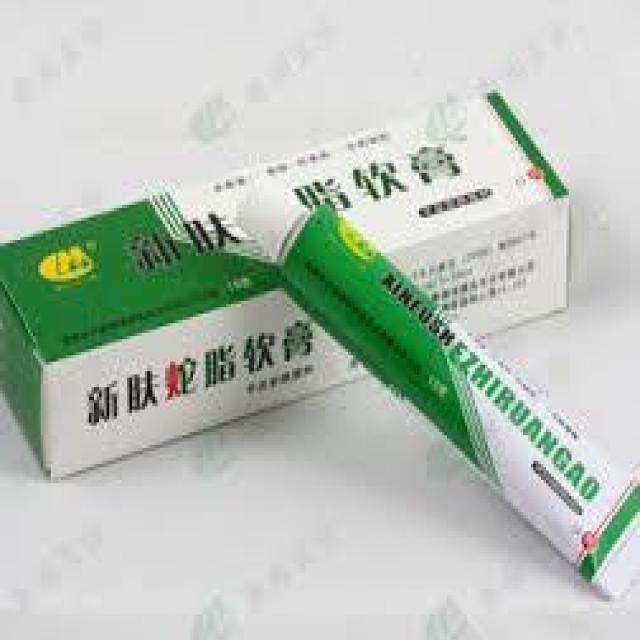-Hazardous waste - medicine inner packaging-: (233, 169, 640, 598)
-Recyclables - paper box-: (0, 76, 568, 484)
